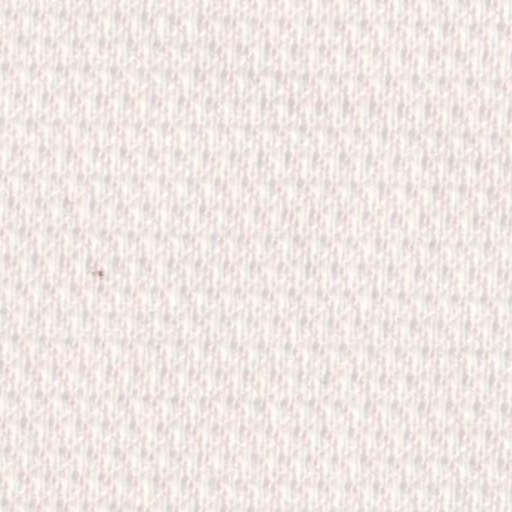WuZi: (77, 255, 118, 292)
